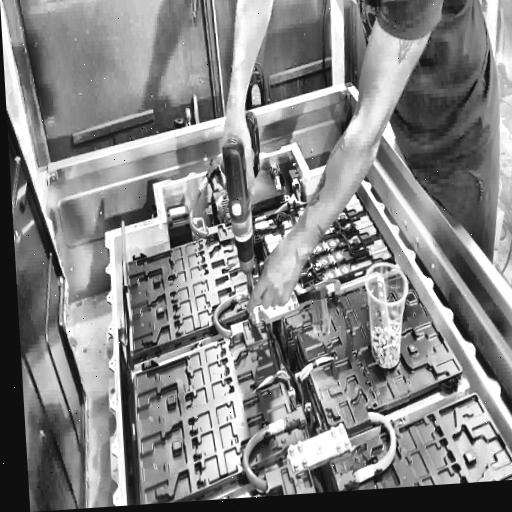high_volt_cable: (239, 407, 304, 495), (337, 408, 402, 491), (181, 153, 228, 248), (295, 271, 343, 346), (210, 282, 250, 346)
low_volt_cable: (267, 324, 307, 412)
nut: (296, 440, 304, 452), (338, 422, 345, 434), (301, 455, 308, 466), (335, 440, 342, 450), (330, 426, 337, 436), (288, 444, 295, 453), (344, 437, 350, 447), (293, 462, 299, 470)
